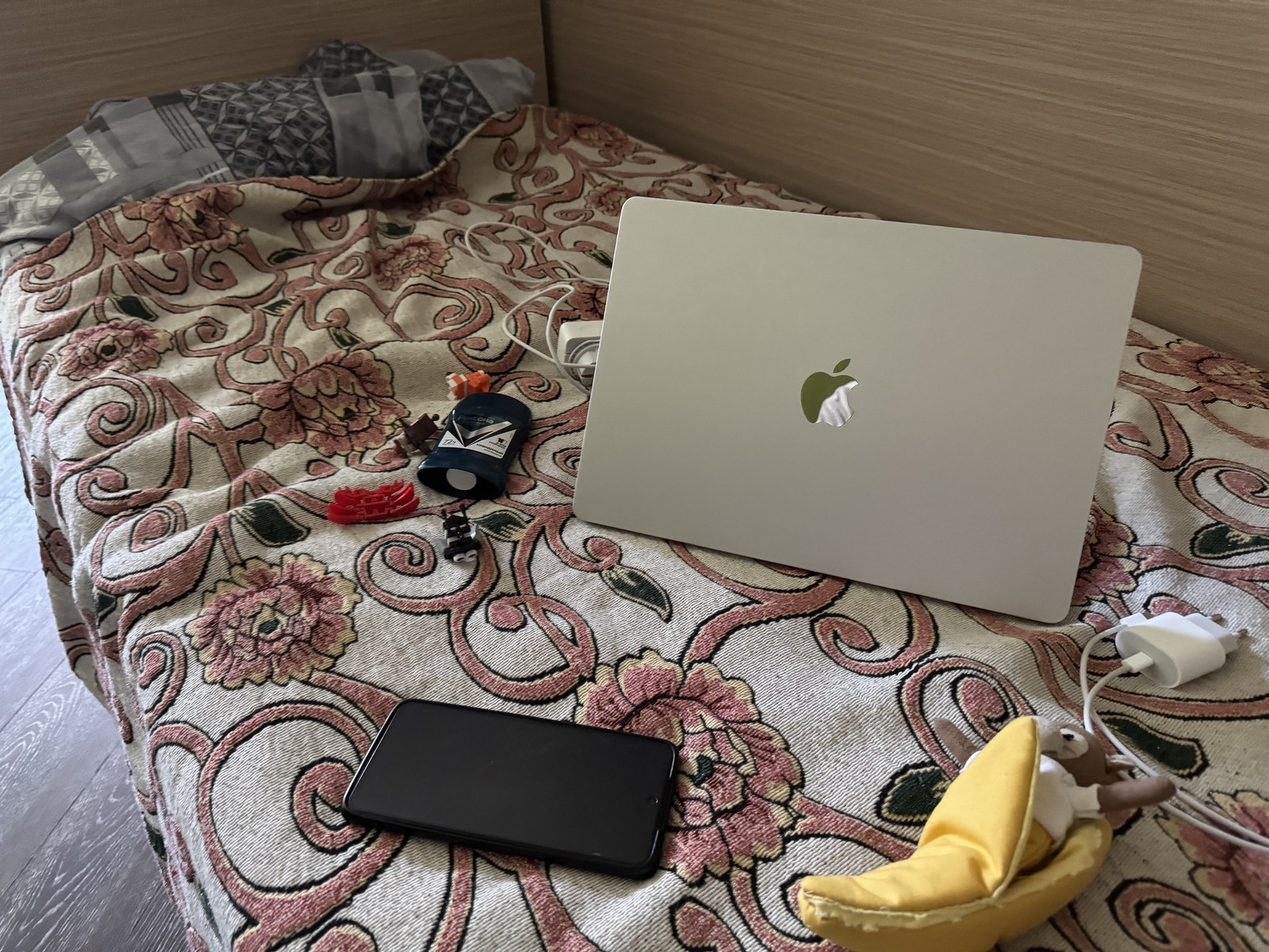cell phone: (341, 698, 678, 880)
laptop: (571, 195, 1143, 624)
